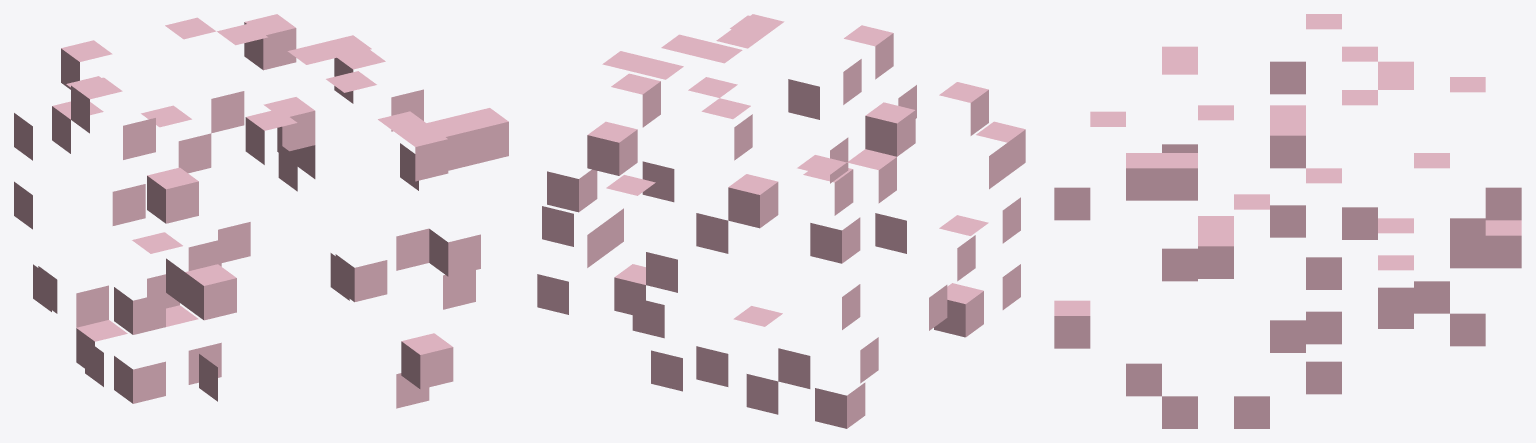
The model's file is tree-cherry-0p9-pink1-f9c6d6.gltf.
The picture shows the model from 3 angles, left to right: view 1: azimuth 30°, elevation 25°; view 2: azimuth 150°, elevation 25°; view 3: azimuth 270°, elevation 25°; orthographic projection. The views are drawn at different scales.
Parts seen in each view (by area): view 1: tree-cherry-0p9-pink1-f9c6d6; view 2: tree-cherry-0p9-pink1-f9c6d6; view 3: tree-cherry-0p9-pink1-f9c6d6.
Part boxes in pixels (x1=…): tree-cherry-0p9-pink1-f9c6d6: x1=14, y1=14, x2=508, y2=408; tree-cherry-0p9-pink1-f9c6d6: x1=537, y1=14, x2=1025, y2=428; tree-cherry-0p9-pink1-f9c6d6: x1=1054, y1=14, x2=1521, y2=428.
Bounding box in the file's own units: 12 × 9 × 13.
